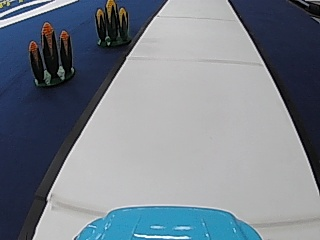corn: (28, 25, 79, 87), (94, 2, 133, 50)
